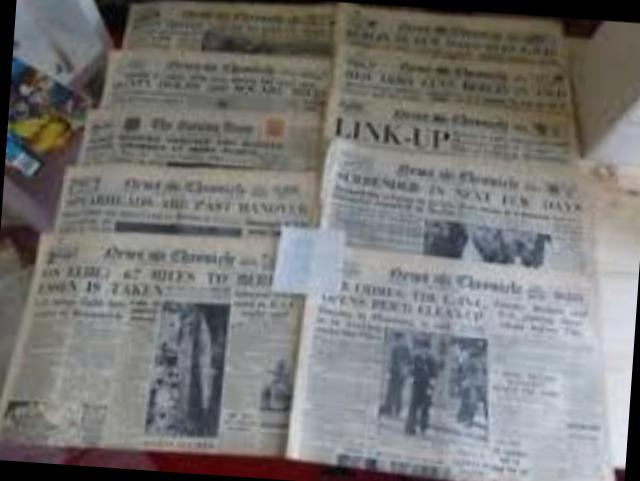cardboard paper: (0, 0, 608, 481)
